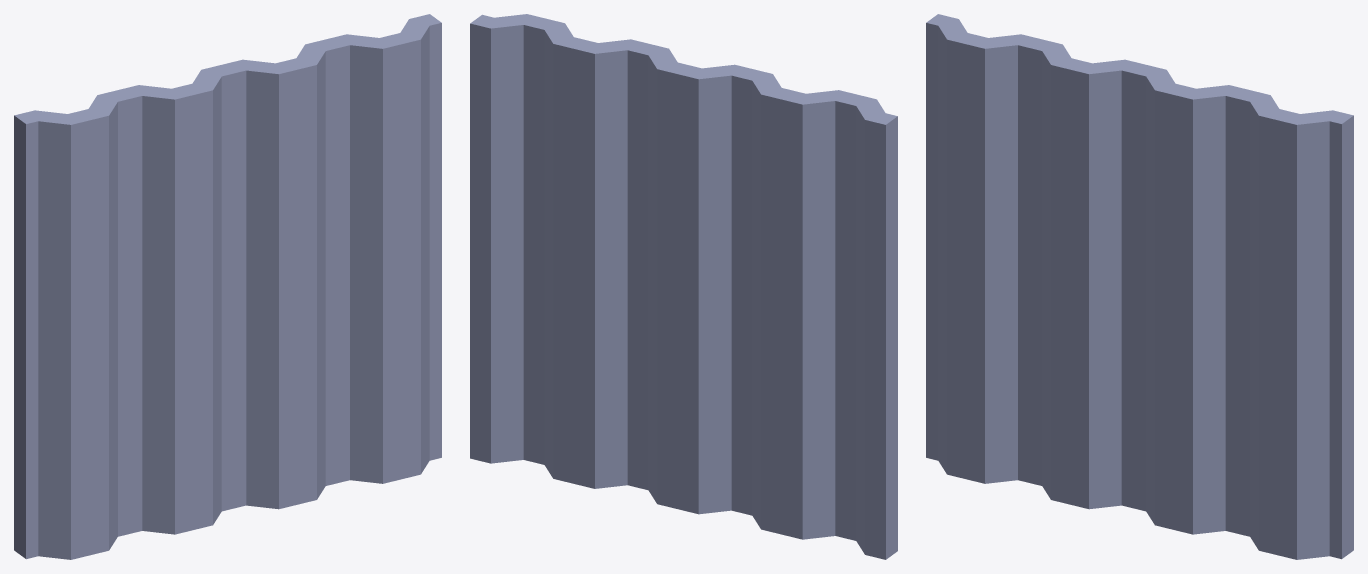
File: metal-panel.obj
3 views of the same model, side by side, from view 1: azimuth 30°, elevation 25°; view 2: azimuth 150°, elevation 25°; view 3: azimuth 330°, elevation 25° (orthographic).
Bounding box in the file's own units: 0.5 × 0.5 × 0.05.
